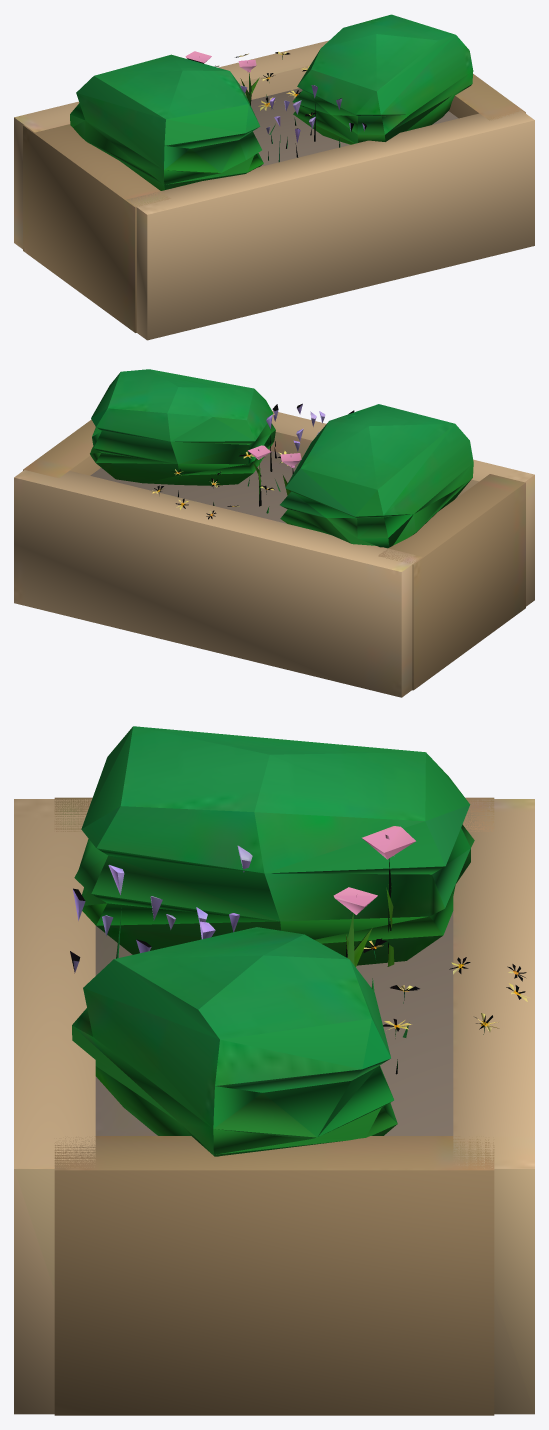
File: plaza_planter_filled_low.glb
3 views of the same model, one above another, from view 1: azimuth 30°, elevation 25°; view 2: azimuth 150°, elevation 25°; view 3: azimuth 270°, elevation 25° (orthographic). The views are drawn at different scales.
Visible parts, largest first — view 1: plaza_planter_filled; view 2: plaza_planter_filled; view 3: plaza_planter_filled.
Boxes of the visible parts, left/top/right/bottom form: plaza_planter_filled: left=14, top=14, right=534, bottom=340; plaza_planter_filled: left=14, top=369, right=534, bottom=697; plaza_planter_filled: left=14, top=726, right=534, bottom=1415.
Size of the model in its own units: 1.76 by 0.85 by 1.04.
1 material, 1 textured.
